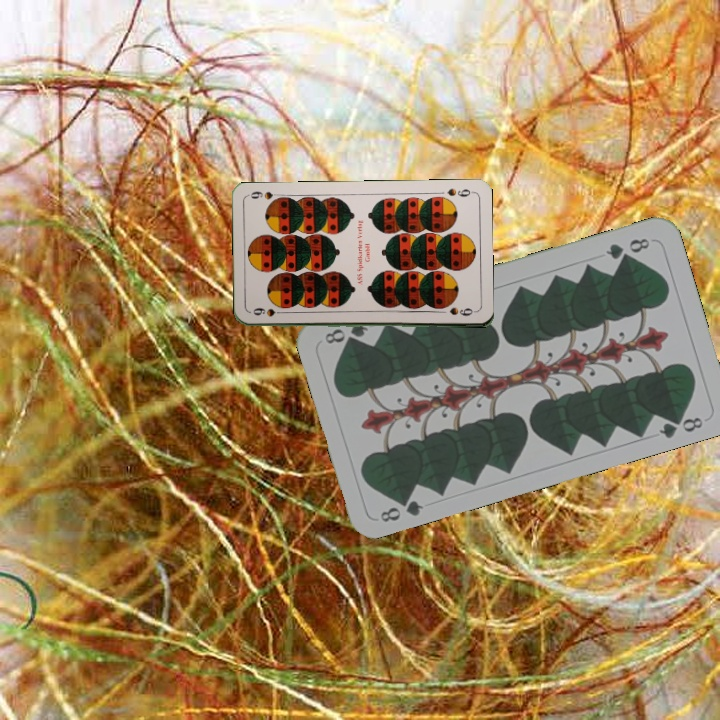G8: (376, 491, 426, 525), (602, 234, 653, 262)
S9: (249, 306, 289, 319), (443, 184, 476, 199)
